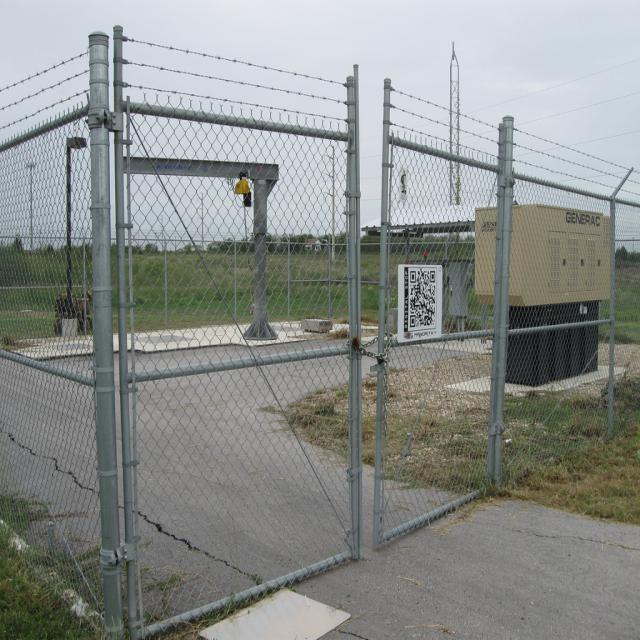qr_code: (410, 271, 435, 327)
